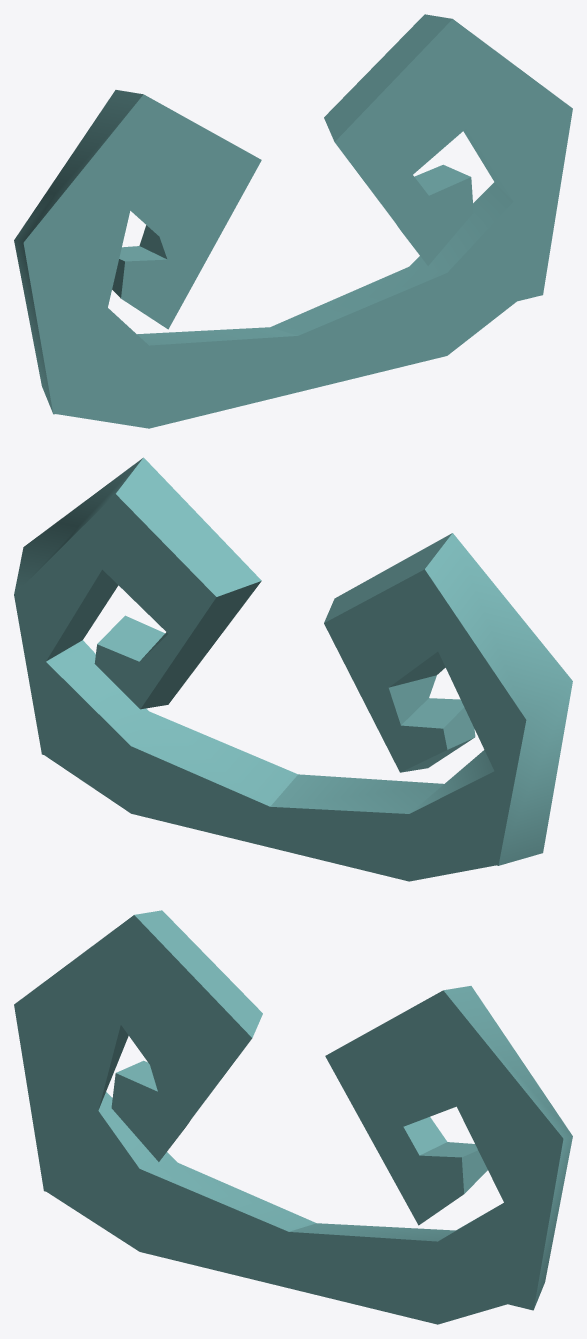
File: cloudy_deco.fbx
3 renders of one model, top to bottom at view 1: azimuth 30°, elevation 25°; view 2: azimuth 150°, elevation 25°; view 3: azimuth 330°, elevation 25°, orthographic.
Visible parts, largest first — view 1: cloudy_deco; view 2: cloudy_deco; view 3: cloudy_deco.
Part boxes in pixels (x1,y1,x2,y2): cloudy_deco: (14,14,572,428); cloudy_deco: (14,457,572,881); cloudy_deco: (14,910,572,1324).
Bounding box in the file's own units: 100 × 58.38 × 8.84.
